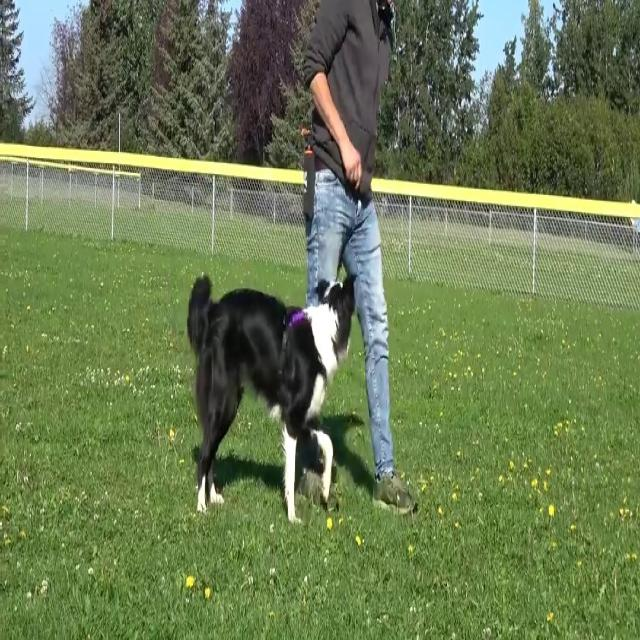Unleashed_Dog: (187, 196, 369, 527)
